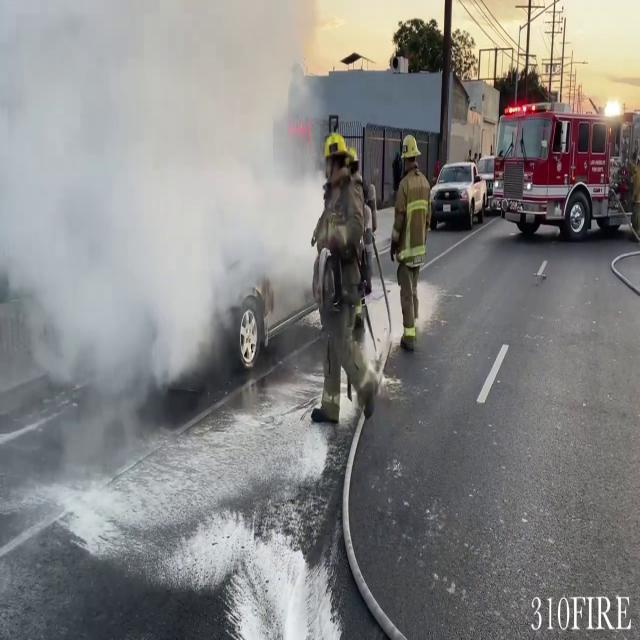Smoke: (0, 0, 334, 438)
